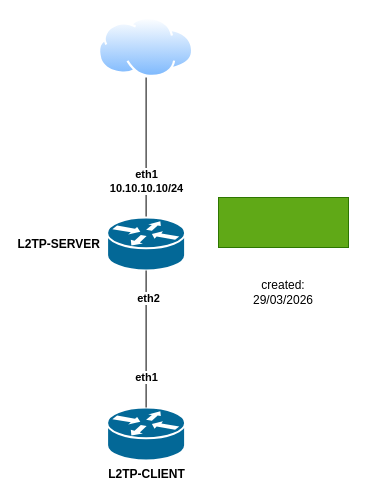
The diagram is 366 pixels wide and 498 high, and some of its shapes have lost their labels. The box of each missing label's shape, as (x1, y1, x2, y2) in pixels:
L2TP/IPsec: (218, 196, 348, 248)
virbr1 10.10.10.1/24: (98, 17, 193, 77)
